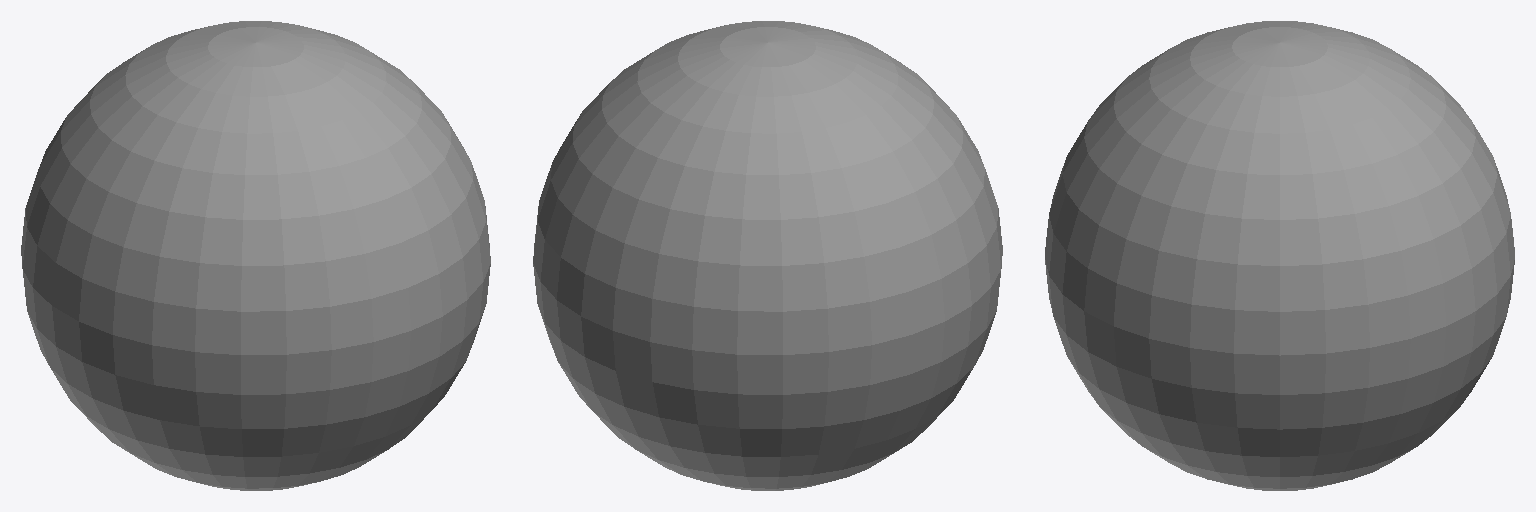
File: pluto.obj
The picture shows the model from 3 angles: view 1: azimuth 30°, elevation 25°; view 2: azimuth 150°, elevation 25°; view 3: azimuth 270°, elevation 25°; orthographic projection.
Parts seen in each view (by area): view 1: Sphere; view 2: Sphere; view 3: Sphere.
Boxes of the visible parts, <box> form: Sphere: <box>21,21,490,490</box>; Sphere: <box>533,21,1002,490</box>; Sphere: <box>1045,21,1514,490</box>.
Bounding box in the file's own units: 9.35 × 9.35 × 9.35.